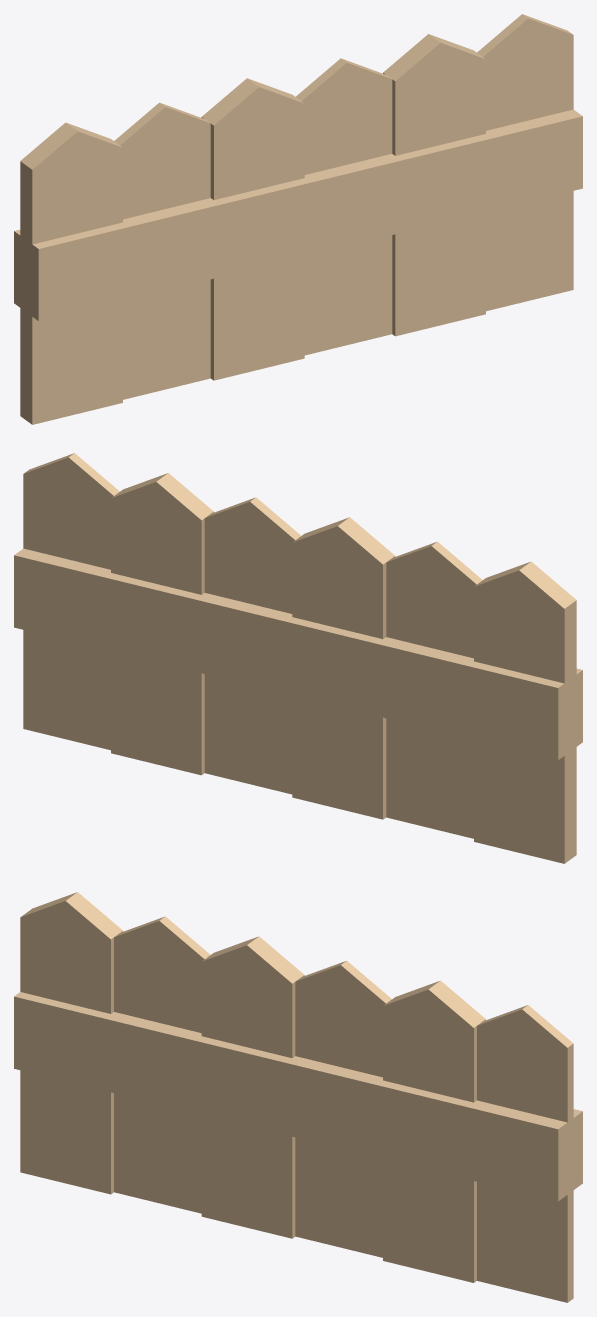
File: fence.glb
3 renders of one model, top to bottom at view 1: azimuth 30°, elevation 25°; view 2: azimuth 150°, elevation 25°; view 3: azimuth 330°, elevation 25°, orthographic.
Parts seen in each view (by area): view 1: fence(Clone); view 2: fence(Clone); view 3: fence(Clone).
Part boxes in pixels (x1,y1,x2,y2): fence(Clone): (14, 14, 582, 424); fence(Clone): (14, 453, 582, 863); fence(Clone): (14, 892, 582, 1302).
Size of the model in its own units: 1 by 0.4961 by 0.0787.
